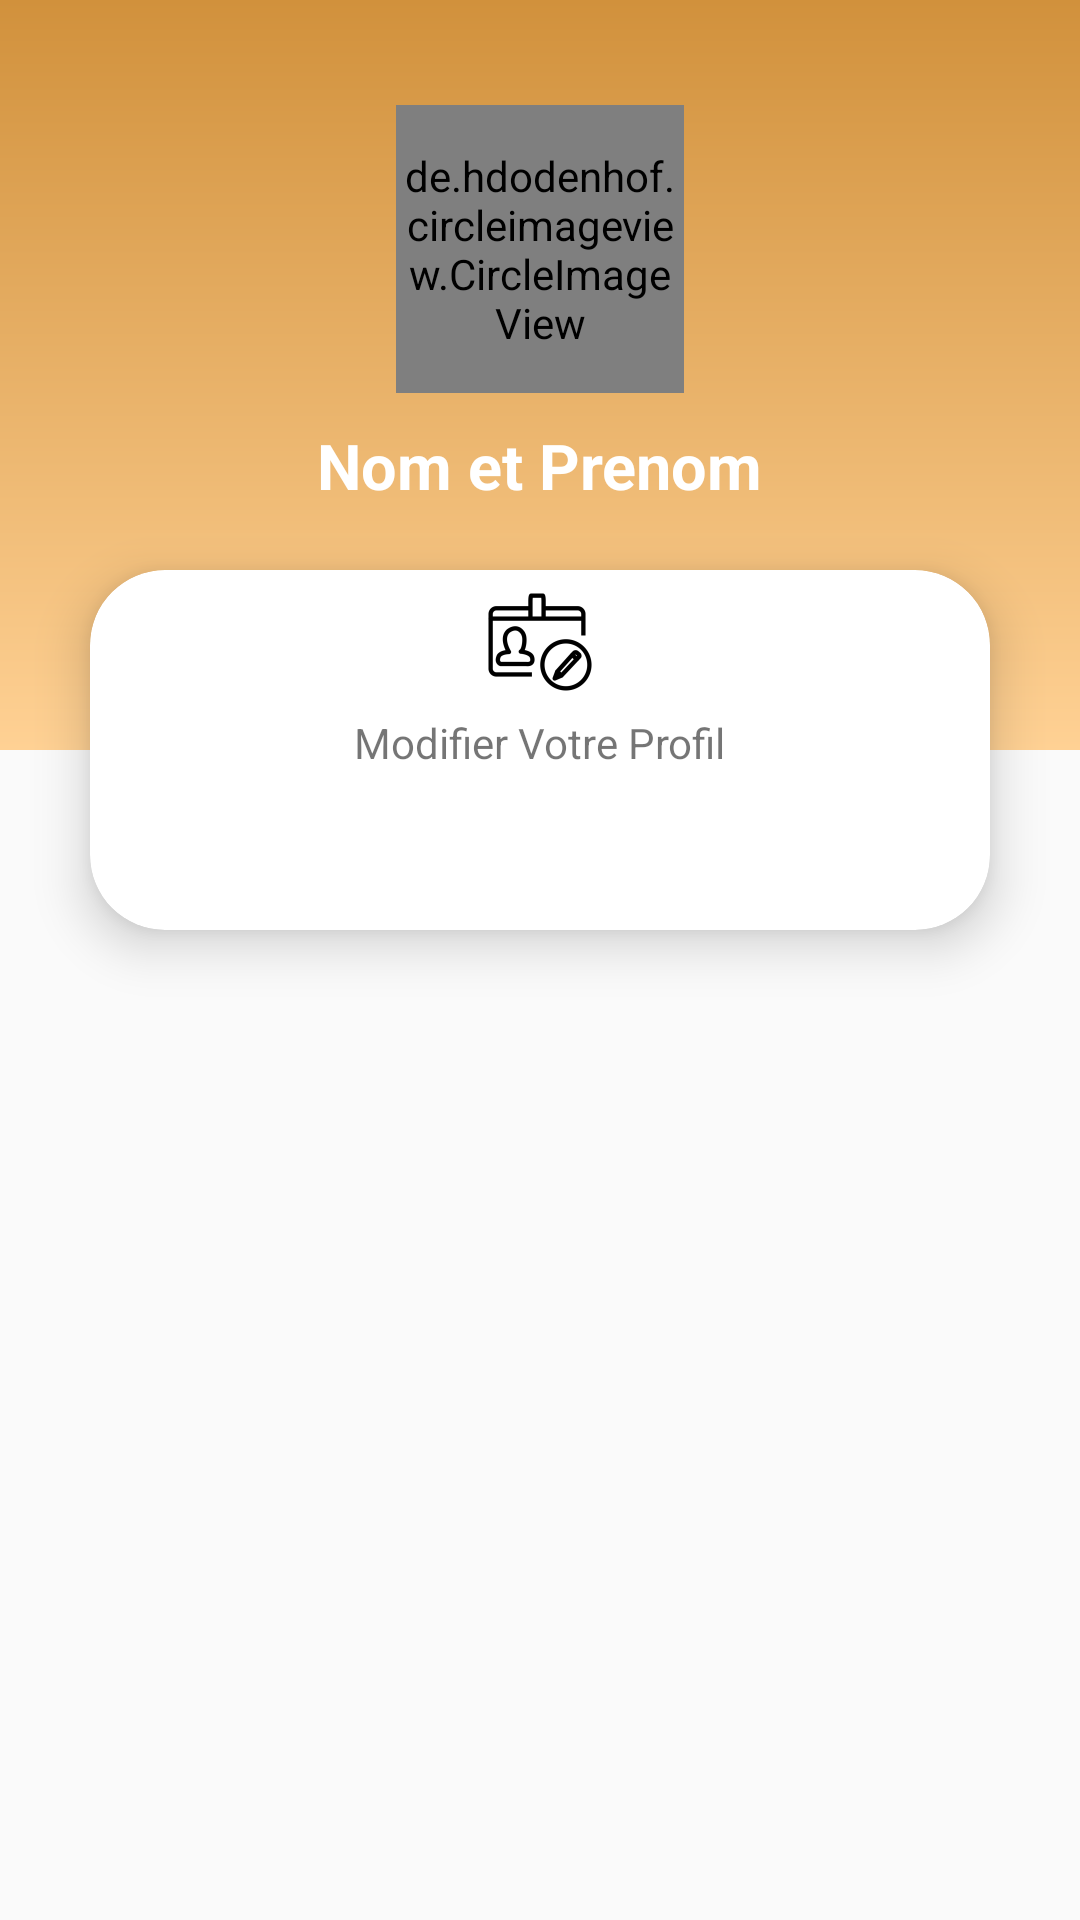

Icons on this 1080x1920 Android screen, each with its box as (x1, y1, x2, y2):
setting profil: (488, 593, 592, 691)
